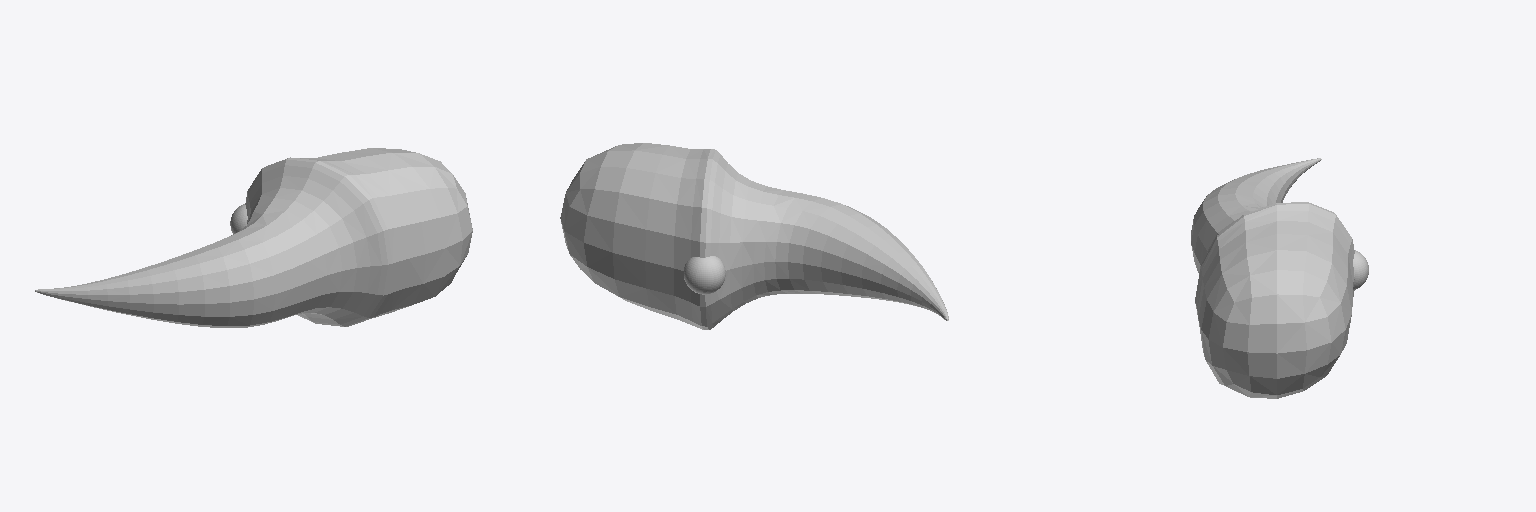
Rendered from lower_claw.obj.
The picture shows the model from 3 angles: view 1: azimuth 30°, elevation 25°; view 2: azimuth 150°, elevation 25°; view 3: azimuth 270°, elevation 25°; orthographic projection.
Visible parts, largest first — view 1: lower_claw_Cube.006; view 2: lower_claw_Cube.006; view 3: lower_claw_Cube.006.
Part boxes in pixels (left/top/right/bottom): lower_claw_Cube.006: left=35, top=148, right=472, bottom=327; lower_claw_Cube.006: left=560, top=143, right=948, bottom=329; lower_claw_Cube.006: left=1191, top=158, right=1368, bottom=398.
Size of the model in its own units: 1.54 by 0.5969 by 0.5916.